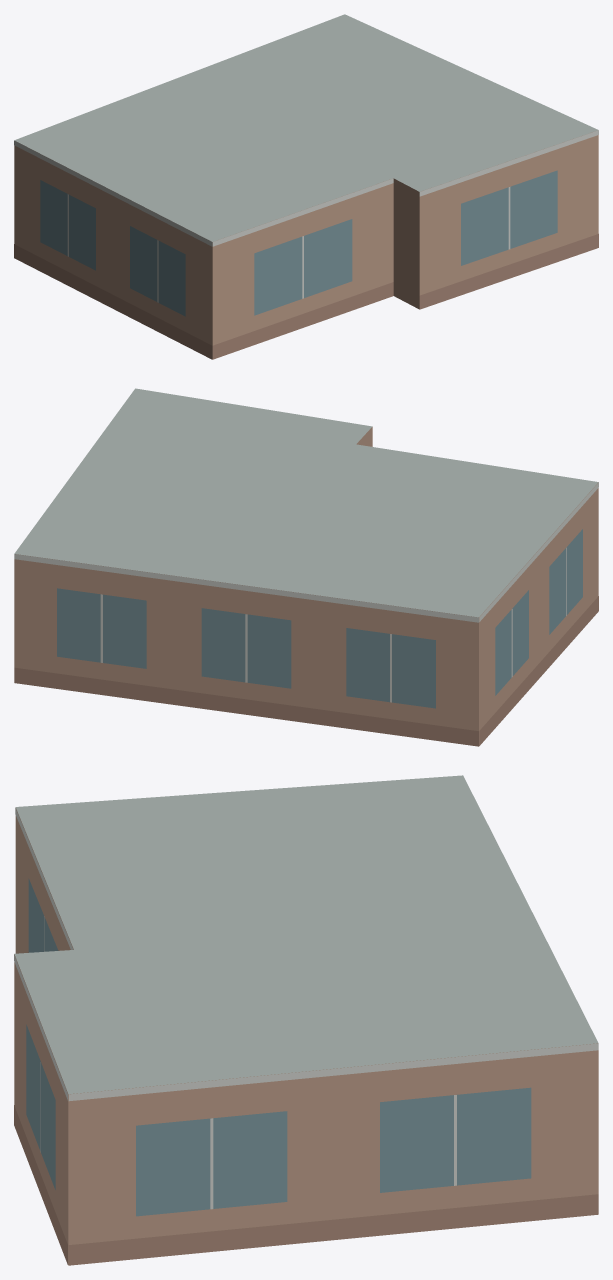
File: survey-upis-32606818.glb
3 views of the same model, one above another, from view 1: azimuth 30°, elevation 25°; view 2: azimuth 150°, elevation 25°; view 3: azimuth 270°, elevation 25° (orthographic). The views are drawn at different scales.
Visible parts, largest first — view 1: survey-upis-32606818.tmp; view 2: survey-upis-32606818.tmp; view 3: survey-upis-32606818.tmp.
Part boxes in pixels (<box>): survey-upis-32606818.tmp: <box>14,14,598,359</box>; survey-upis-32606818.tmp: <box>14,388,598,746</box>; survey-upis-32606818.tmp: <box>14,775,598,1265</box>.
Size of the model in its own units: 12.19 by 3.05 by 9.44.
